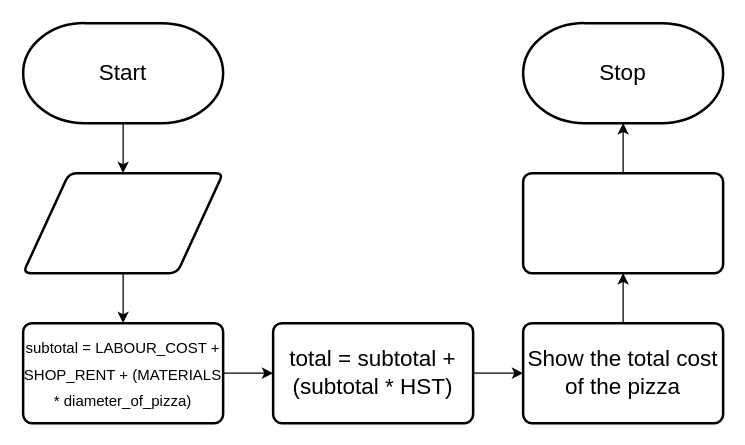
Image size: 745x445. Some labels were removed from this diagram. Each missing label, with the centre of its shape:
"Enter the diameter of the pizza" belongs at (x=122, y=222).
"Show the program as done" belongs at (x=622, y=222).
